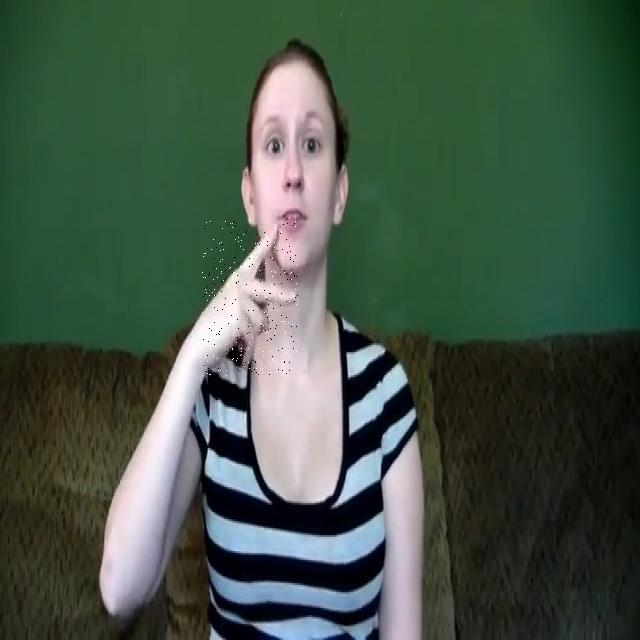vegetables: (202, 221, 298, 376)
